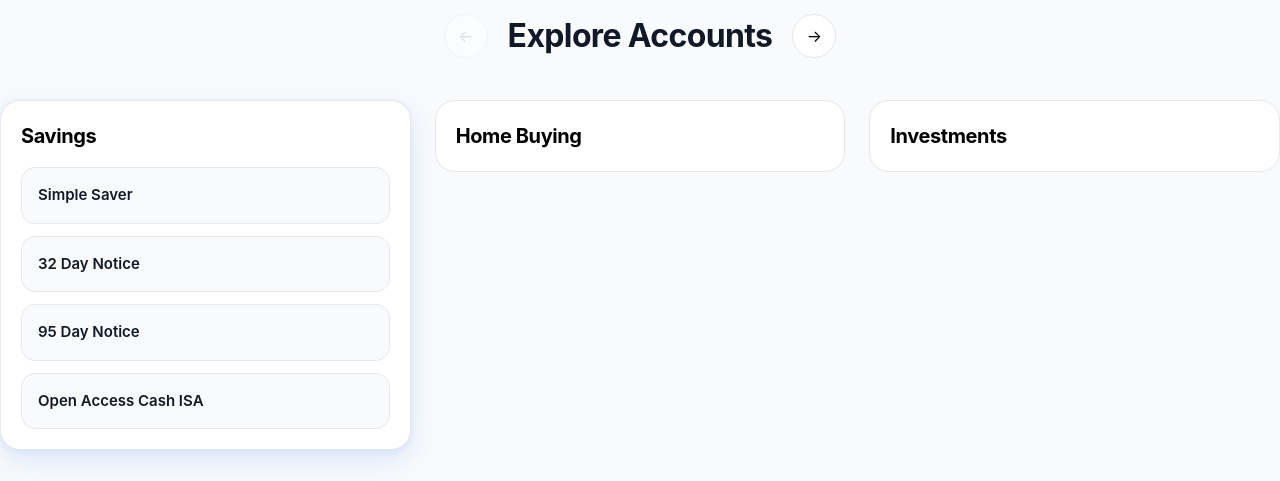
Test: AccountsExplorer › navigates to the previous category when the previous button is clicked
Click the button named "Next category" at (814, 36), box x1=792 y1=14 x2=836 y2=58
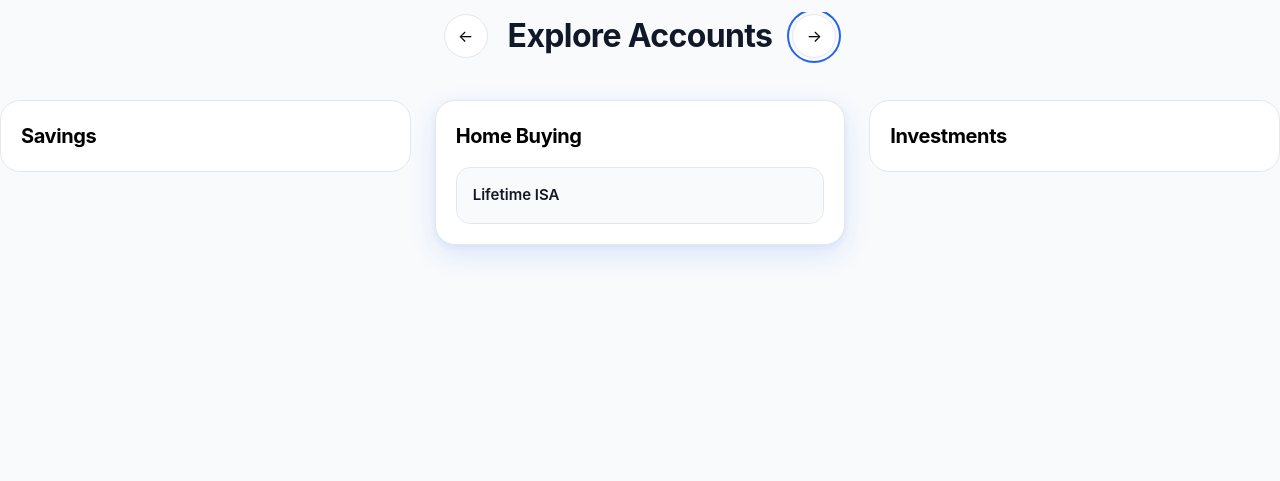
Click the button named "Previous category" at (466, 36), box x1=444 y1=14 x2=488 y2=58
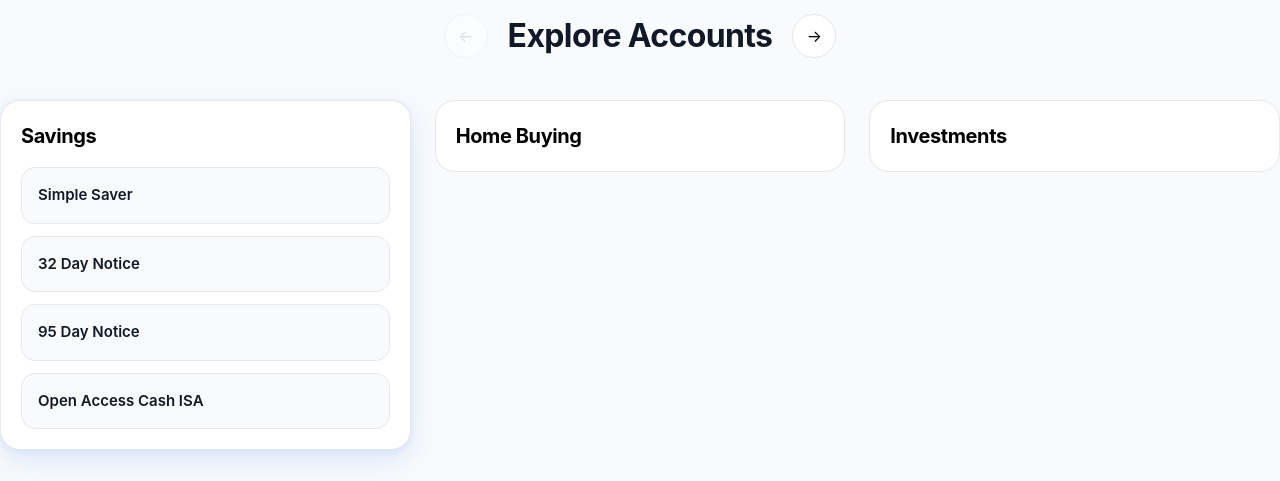
Result: the heading "Simple Saver" is shown at x1=38 y1=185 x2=133 y2=204
